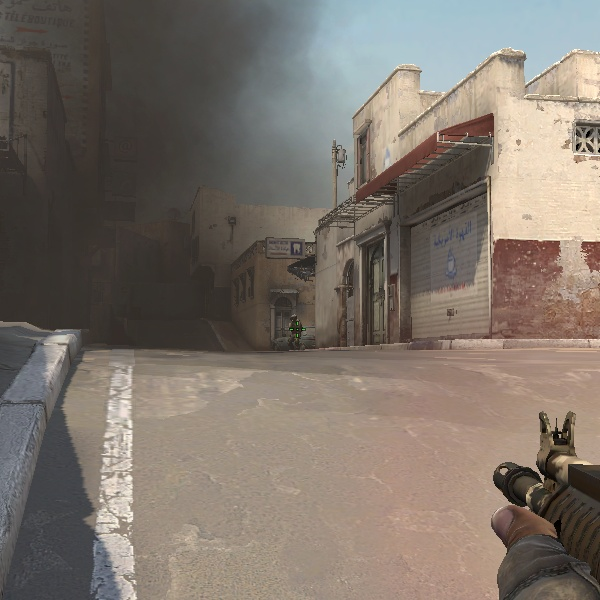ct_body: (287, 314, 304, 349)
ct_head: (290, 314, 298, 322)
